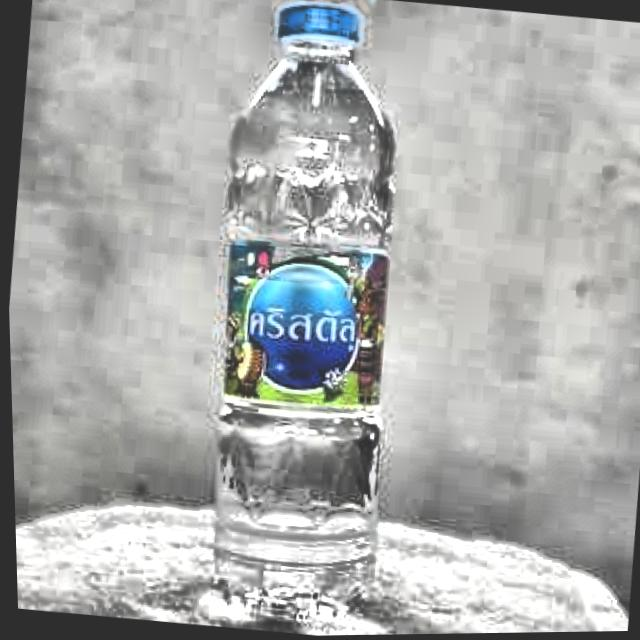Bottles: (152, 0, 468, 638)
